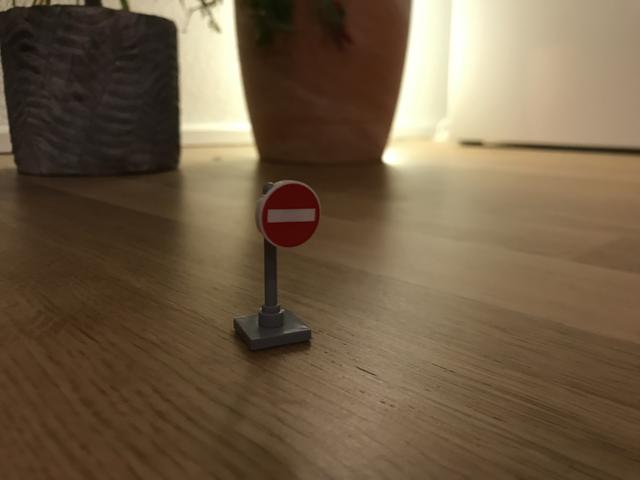verbot der einfahrt: (257, 179, 321, 248)
